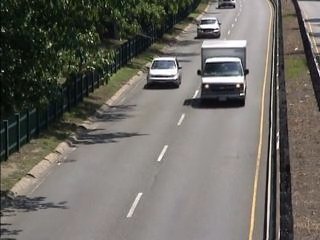car: (145, 55, 185, 90), (196, 15, 223, 40), (216, 1, 238, 11)
truck: (198, 38, 250, 107)
